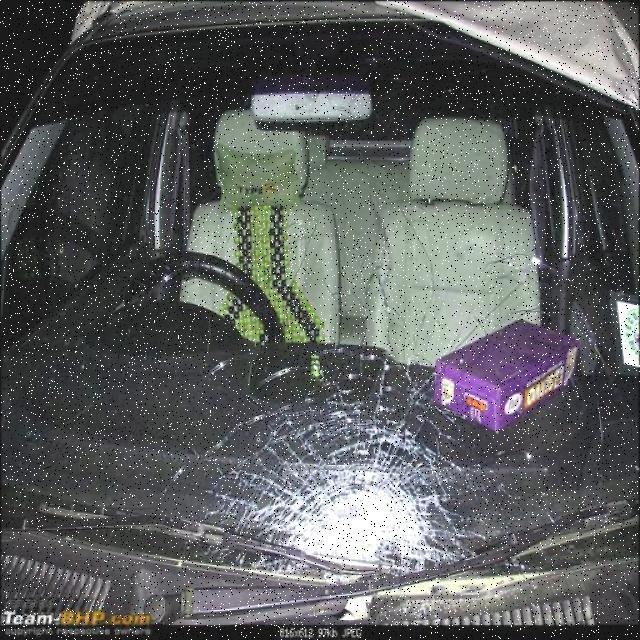car damage: (253, 417, 451, 562)
